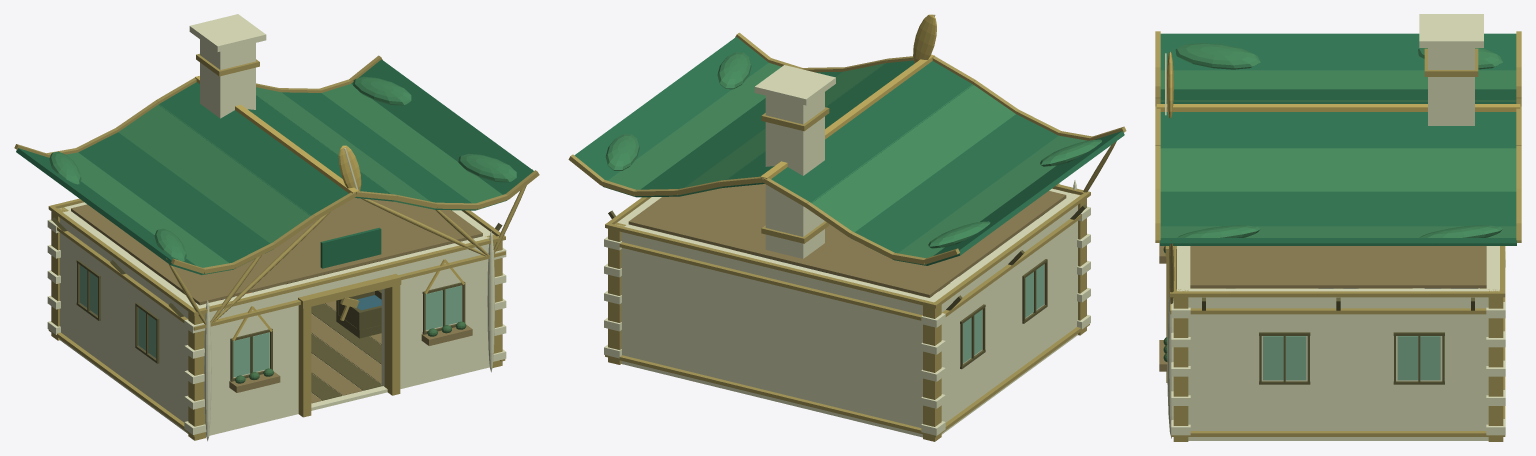
File: Forge.glb
3 views of the same model, side by side, from view 1: azimuth 30°, elevation 25°; view 2: azimuth 150°, elevation 25°; view 3: azimuth 270°, elevation 25° (orthographic). The views are drawn at different scales.
Visible parts, largest first — view 1: Forge_002_Side, Forge_095_Ceiling, Forge_159_ProfileRoof, Forge_040_FrontWing, Forge_003_FrontWing, Forge_162_ProfileRoof, Forge_156_ProfileRoof, Forge_183_ProfileRoof, Forge_180_ProfileRoof, Forge_177_ProfileRoof, Forge_165_ProfileRoof, Forge_211_ForgeChimney (+38 smaller); view 2: Forge_001_Rear, Forge_002_Side, Forge_095_Ceiling, Forge_159_ProfileRoof, Forge_162_ProfileRoof, Forge_156_ProfileRoof, Forge_211_ForgeChimney, Forge_183_ProfileRoof, Forge_180_ProfileRoof, Forge_165_ProfileRoof, Forge_177_ProfileRoof, Forge_168_ProfileRoof (+22 smaller); view 3: Forge_039_Side, Forge_174_ProfileRoof, Forge_177_ProfileRoof, Forge_095_Ceiling, Forge_171_ProfileRoof, Forge_168_ProfileRoof, Forge_165_ProfileRoof, Forge_211_ForgeChimney, Forge_162_ProfileRoof, Forge_180_ProfileRoof, Forge_183_ProfileRoof, Forge_186_Ridge (+20 smaller).
Boxes of the visible parts, <box> form: Forge_002_Side: <box>60,211,202,432</box>; Forge_095_Ceiling: <box>71,198,482,304</box>; Forge_159_ProfileRoof: <box>118,104,311,243</box>; Forge_040_FrontWing: <box>381,234,493,388</box>; Forge_003_FrontWing: <box>200,280,306,434</box>; Forge_162_ProfileRoof: <box>78,132,271,269</box>; Forge_156_ProfileRoof: <box>158,82,348,215</box>; Forge_183_ProfileRoof: <box>351,59,533,200</box>; Forge_180_ProfileRoof: <box>322,84,506,210</box>; Forge_177_ProfileRoof: <box>282,92,475,210</box>; Forge_165_ProfileRoof: <box>49,152,232,274</box>; Forge_211_ForgeChimney: <box>200,39,255,118</box>; Forge_001_Rear: <box>617,222,936,436</box>; Forge_002_Side: <box>927,193,1079,434</box>; Forge_095_Ceiling: <box>628,184,1066,297</box>; Forge_159_ProfileRoof: <box>811,84,1015,232</box>; Forge_162_ProfileRoof: <box>851,114,1058,259</box>; Forge_156_ProfileRoof: <box>771,61,973,203</box>; Forge_211_ForgeChimney: <box>765,92,824,258</box>; Forge_183_ProfileRoof: <box>574,37,768,186</box>; Forge_180_ProfileRoof: <box>604,63,781,196</box>; Forge_165_ProfileRoof: <box>894,135,1086,265</box>; Forge_177_ProfileRoof: <box>636,71,842,197</box>; Forge_168_ProfileRoof: <box>927,131,1124,265</box>; Forge_039_Side: <box>1188,288,1488,440</box>; Forge_174_ProfileRoof: <box>1160,148,1516,191</box>; Forge_177_ProfileRoof: <box>1160,191,1516,226</box>; Forge_095_Ceiling: <box>1190,246,1486,288</box>; Forge_171_ProfileRoof: <box>1160,112,1516,148</box>; Forge_168_ProfileRoof: <box>1160,33,1516,70</box>; Forge_165_ProfileRoof: <box>1160,70,1516,89</box>; Forge_211_ForgeChimney: <box>1428,48,1474,125</box>; Forge_162_ProfileRoof: <box>1160,89,1516,99</box>; Forge_180_ProfileRoof: <box>1160,226,1516,237</box>; Forge_183_ProfileRoof: <box>1160,238,1516,245</box>; Forge_186_Ridge: <box>1156,104,1520,111</box>.
Size of the model in its own units: 36.28 by 27.28 by 27.2.
